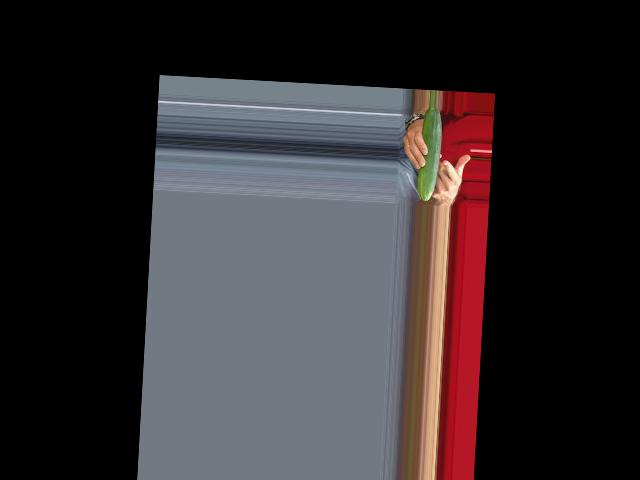cucumber: (415, 106, 442, 201)
